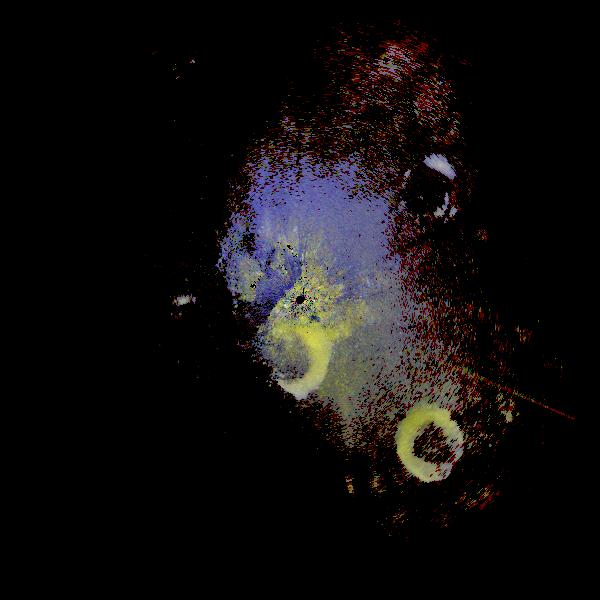roost: (480, 321, 600, 462), (238, 303, 352, 417), (378, 390, 492, 504), (376, 142, 484, 250)
